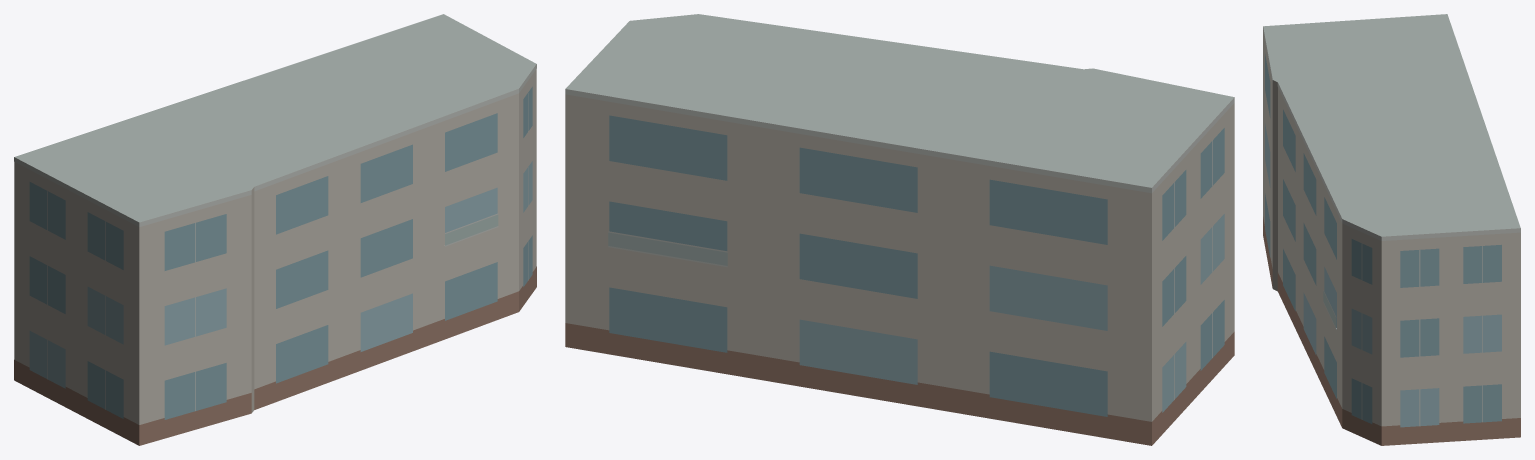
Rendered from survey-upis-32499025.glb.
The picture shows the model from 3 angles, left to right: view 1: azimuth 30°, elevation 25°; view 2: azimuth 150°, elevation 25°; view 3: azimuth 270°, elevation 25°; orthographic projection. The views are drawn at different scales.
Visible parts, largest first — view 1: survey-upis-32499025.tmp; view 2: survey-upis-32499025.tmp; view 3: survey-upis-32499025.tmp.
Boxes of the visible parts, x1,y1,x2,y2 form: survey-upis-32499025.tmp: [14, 14, 536, 445]; survey-upis-32499025.tmp: [565, 14, 1234, 445]; survey-upis-32499025.tmp: [1263, 14, 1520, 445].
Bounding box in the file's own units: 26.73 × 11.7 × 13.08.
